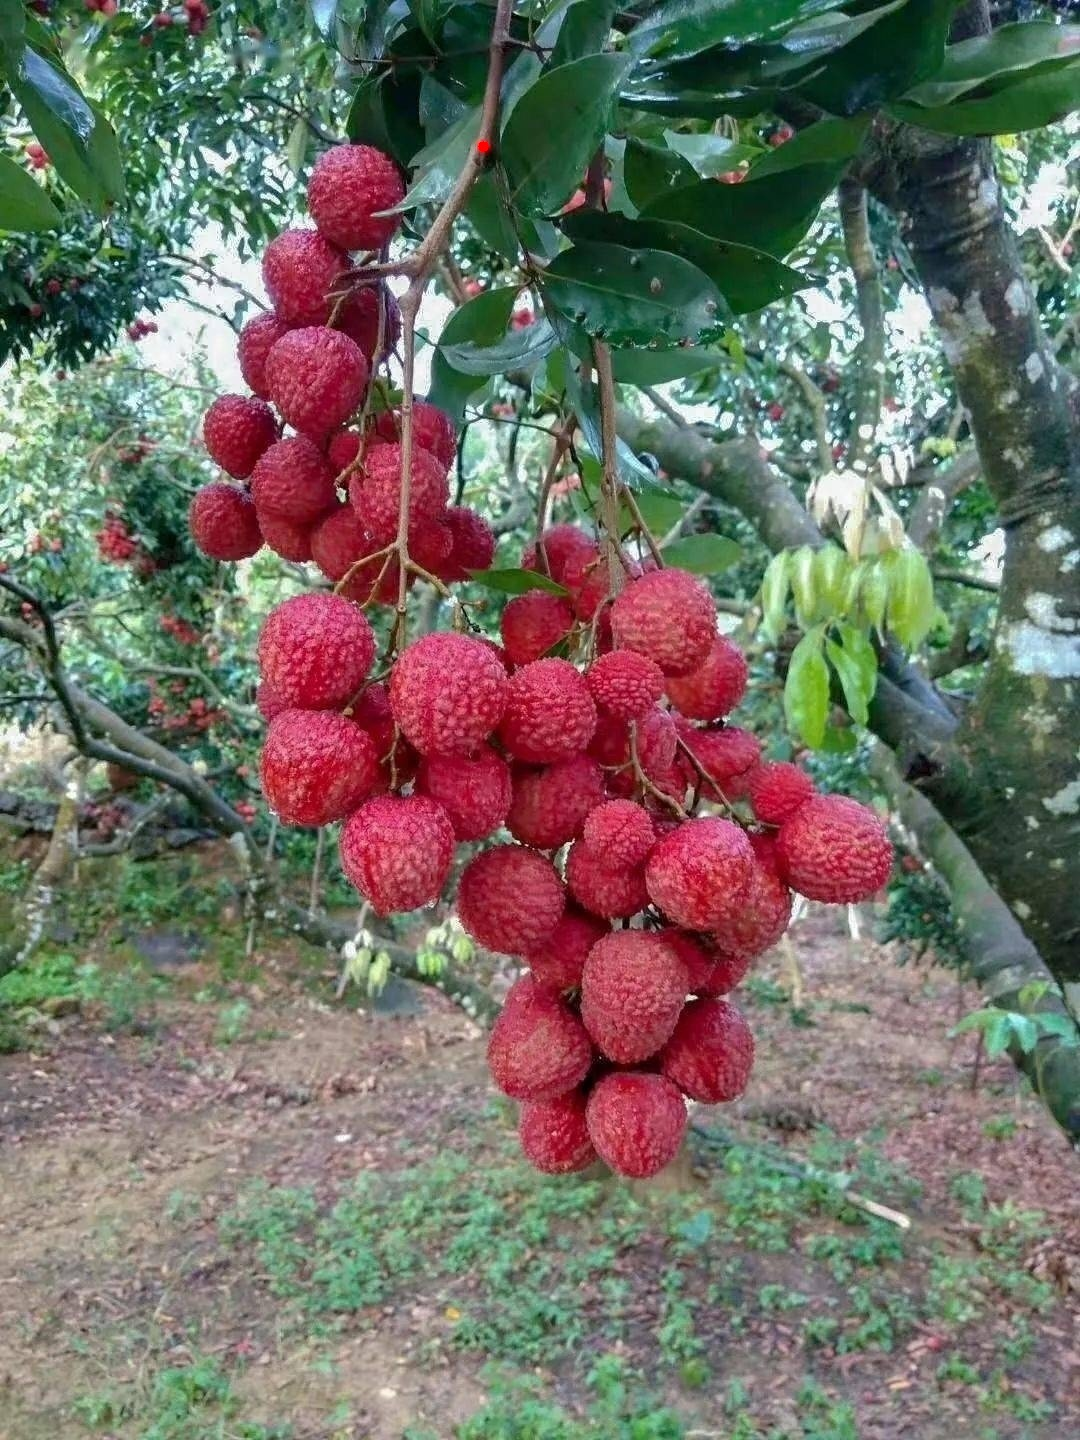litchi: (478, 557, 864, 1169), (216, 163, 500, 893)
stem: (389, 1, 514, 309), (583, 151, 643, 554)
